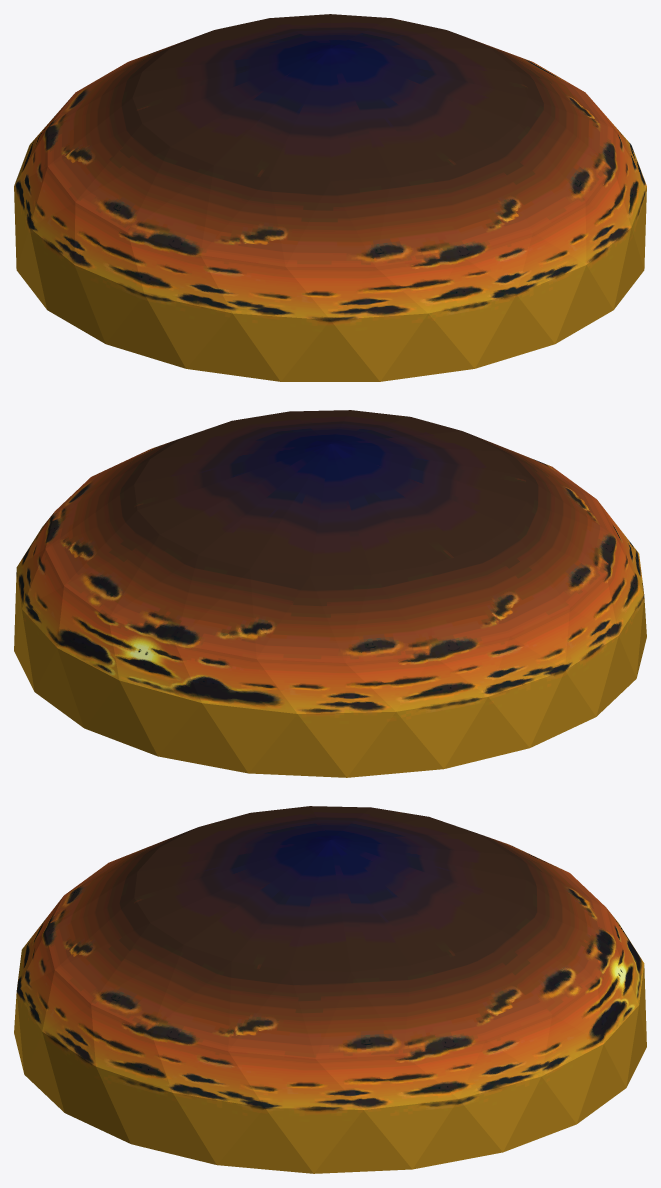
Rendered from waluigi_sky.dae.
3 renders of one model, top to bottom at view 1: azimuth 30°, elevation 25°; view 2: azimuth 150°, elevation 25°; view 3: azimuth 270°, elevation 25°, orthographic.
Parts seen in each view (by area): view 1: n0b0; view 2: n0b0; view 3: n0b0.
Boxes of the visible parts, <box> form: n0b0: <box>14,14,646,381</box>; n0b0: <box>14,410,646,777</box>; n0b0: <box>14,806,646,1173</box>.
Bounding box in the file's own units: 150680 × 52599 × 150680.
Materials: 1 (1 with a texture image).
